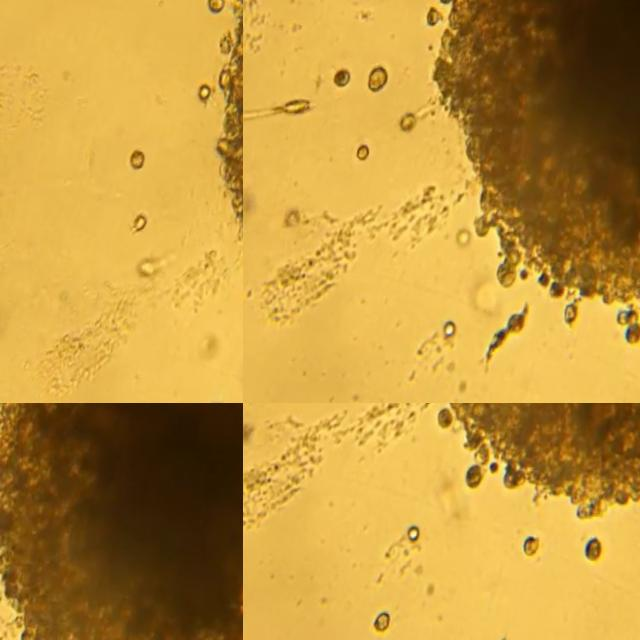cell: (279, 99, 314, 113), (512, 304, 531, 329), (370, 66, 389, 91), (493, 328, 513, 351), (588, 537, 607, 559), (379, 609, 396, 629), (404, 108, 419, 130), (137, 213, 152, 234), (132, 148, 147, 169), (443, 407, 458, 428), (336, 68, 352, 87), (529, 535, 545, 553), (447, 322, 462, 337), (358, 143, 371, 159), (200, 83, 212, 100), (631, 326, 640, 347), (412, 527, 426, 540), (622, 307, 634, 322), (633, 308, 640, 323)
tumor_mass: (0, 403, 243, 640)
